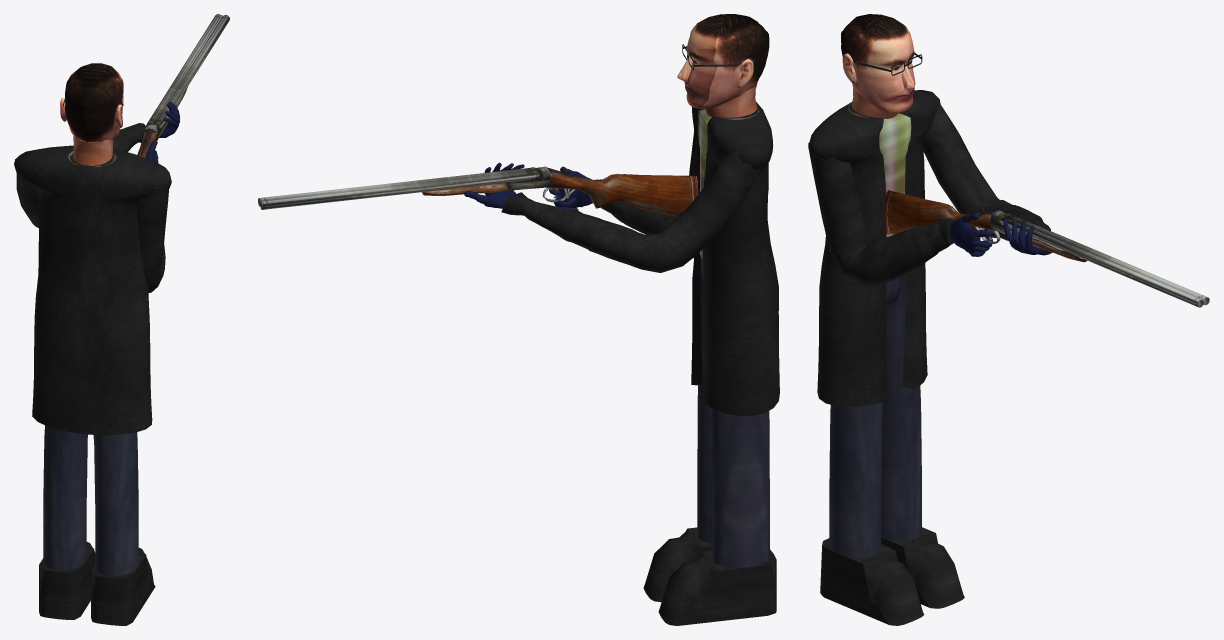
File: Joe315.fbx
3 views of the same model, side by side, from view 1: azimuth 30°, elevation 25°; view 2: azimuth 150°, elevation 25°; view 3: azimuth 270°, elevation 25° (orthographic). The views are drawn at different scales.
Parts seen in each view (by area): view 1: joe_trenchcoat, joe_legs, joe_face, joe_rshoetest, joe_lshoetest, rarm, dbshotgun, larm, joe_neck; view 2: joe_trenchcoat, joe_legs, larm, dbshotgun, joe_lshoetest, joe_face, joe_rshoetest, rarm, joe_neck, joe_shirt; view 3: joe_trenchcoat, joe_legs, rarm, dbshotgun, joe_rshoetest, joe_face, larm, joe_lshoetest, joe_shirt, rhand, joe_neck.
Boxes of the visible parts, bbox=[...] form: joe_trenchcoat: bbox=[14, 145, 171, 435]; joe_legs: bbox=[43, 425, 138, 576]; joe_face: bbox=[65, 63, 123, 142]; joe_rshoetest: bbox=[91, 547, 155, 625]; joe_lshoetest: bbox=[39, 542, 95, 619]; rarm: bbox=[137, 186, 168, 292]; dbshotgun: bbox=[137, 14, 229, 158]; larm: bbox=[16, 123, 145, 227]; joe_neck: bbox=[73, 135, 113, 165]; joe_trenchcoat: bbox=[691, 102, 779, 415]; joe_legs: bbox=[697, 254, 769, 567]; larm: bbox=[501, 150, 765, 272]; dbshotgun: bbox=[258, 166, 698, 216]; joe_lshoetest: bbox=[658, 549, 776, 625]; joe_face: bbox=[684, 14, 769, 108]; joe_rshoetest: bbox=[643, 527, 712, 602]; rarm: bbox=[594, 130, 696, 234]; joe_neck: bbox=[705, 83, 757, 117]; joe_shirt: bbox=[698, 109, 759, 259]; joe_trenchcoat: bbox=[808, 90, 940, 406]; joe_legs: bbox=[829, 274, 921, 557]; rarm: bbox=[808, 143, 954, 286]; dbshotgun: bbox=[884, 190, 1209, 307]; joe_rshoetest: bbox=[820, 538, 924, 625]; joe_face: bbox=[841, 14, 915, 113]; larm: bbox=[923, 99, 1050, 240]; joe_lshoetest: bbox=[881, 527, 964, 608]; joe_shirt: bbox=[848, 103, 911, 236]; rhand: bbox=[950, 217, 980, 254]; joe_neck: bbox=[852, 84, 897, 118].
Bounding box in the file's own units: 40.62 × 60.91 × 38.75.
Materials: 7 (7 with a texture image).
